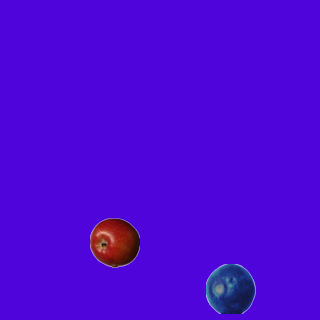Apple Braeburn: (89, 217, 139, 267)
Huckleberry: (205, 263, 255, 313)
